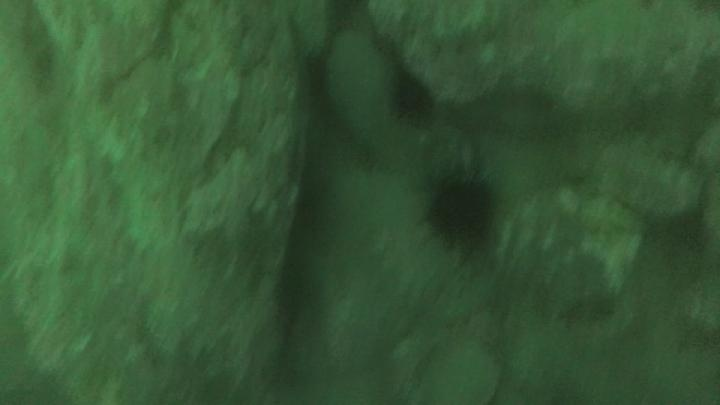echinus: (420, 163, 502, 255), (388, 72, 437, 124)
scallop: (416, 335, 503, 405)
